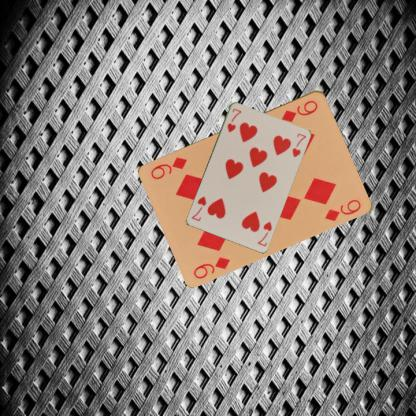7h: (224, 105, 243, 134), (255, 218, 273, 248)
9d: (278, 97, 320, 123), (191, 254, 231, 280)
